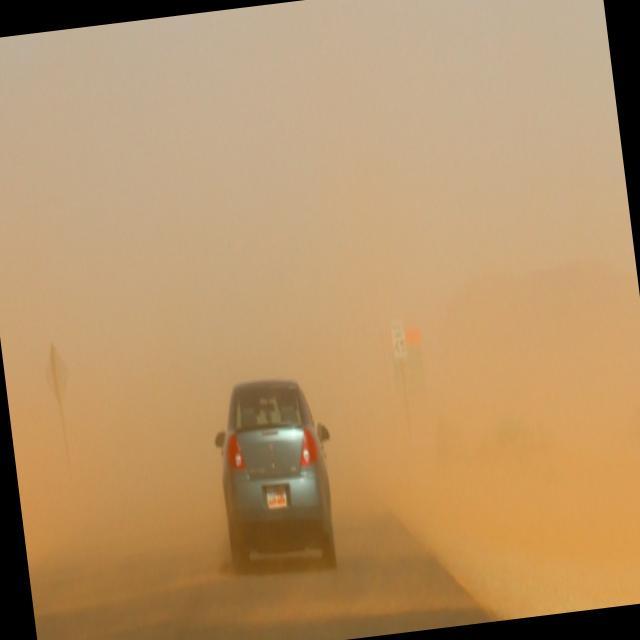car: (207, 372, 344, 574)
